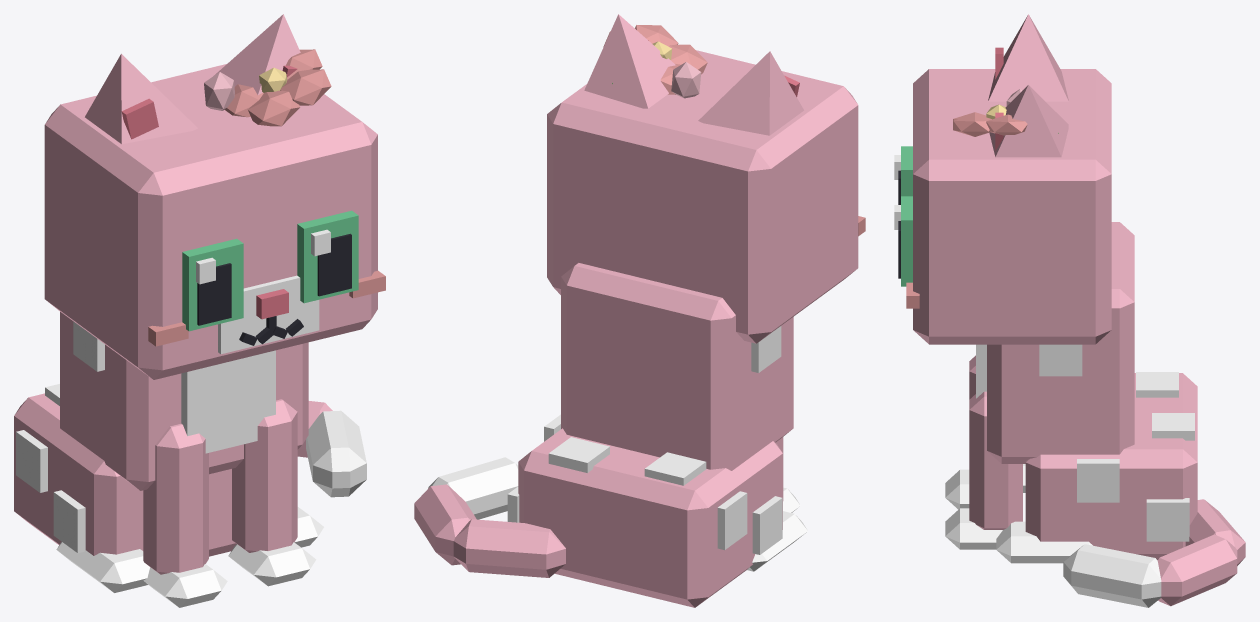
The model's file is CatCafe_Cat_Sakura_Sit.glb.
3 views of the same model, side by side, from view 1: azimuth 30°, elevation 25°; view 2: azimuth 150°, elevation 25°; view 3: azimuth 270°, elevation 25° (orthographic). The views are drawn at different scales.
Parts seen in each view (by area): view 1: CatCafe_Cat_Sakura_Sit_Head, CatCafe_Cat_Sakura_Sit_Body, CatCafe_Cat_Sakura_Sit_LegF2, CatCafe_Cat_Sakura_Sit_LegF1, CatCafe_Cat_Sakura_Sit_Prop, CatCafe_Cat_Sakura_Sit_EarR, CatCafe_Cat_Sakura_Sit_Eye2, CatCafe_Cat_Sakura_Sit_Eye1, CatCafe_Cat_Sakura_Sit_Tail, CatCafe_Cat_Sakura_Sit_EarL; view 2: CatCafe_Cat_Sakura_Sit_Body, CatCafe_Cat_Sakura_Sit_Head, CatCafe_Cat_Sakura_Sit_Tail, CatCafe_Cat_Sakura_Sit_EarL, CatCafe_Cat_Sakura_Sit_EarR, CatCafe_Cat_Sakura_Sit_Prop; view 3: CatCafe_Cat_Sakura_Sit_Head, CatCafe_Cat_Sakura_Sit_Body, CatCafe_Cat_Sakura_Sit_Tail, CatCafe_Cat_Sakura_Sit_LegF1, CatCafe_Cat_Sakura_Sit_EarR, CatCafe_Cat_Sakura_Sit_EarL, CatCafe_Cat_Sakura_Sit_Prop, CatCafe_Cat_Sakura_Sit_Eye1, CatCafe_Cat_Sakura_Sit_LegF2, CatCafe_Cat_Sakura_Sit_Eye2.
Part boxes in pixels (<box>): CatCafe_Cat_Sakura_Sit_Head: <box>44,64,385,379</box>; CatCafe_Cat_Sakura_Sit_Body: <box>14,312,323,592</box>; CatCafe_Cat_Sakura_Sit_LegF2: <box>143,423,227,607</box>; CatCafe_Cat_Sakura_Sit_LegF1: <box>228,399,316,586</box>; CatCafe_Cat_Sakura_Sit_Prop: <box>204,49,331,126</box>; CatCafe_Cat_Sakura_Sit_EarR: <box>85,54,197,144</box>; CatCafe_Cat_Sakura_Sit_Eye2: <box>182,238,243,331</box>; CatCafe_Cat_Sakura_Sit_Eye1: <box>297,210,358,303</box>; CatCafe_Cat_Sakura_Sit_Tail: <box>297,401,366,497</box>; CatCafe_Cat_Sakura_Sit_EarL: <box>214,14,300,94</box>; CatCafe_Cat_Sakura_Sit_Body: <box>507,263,807,607</box>; CatCafe_Cat_Sakura_Sit_Head: <box>547,50,865,343</box>; CatCafe_Cat_Sakura_Sit_Tail: <box>414,457,565,577</box>; CatCafe_Cat_Sakura_Sit_EarL: <box>584,14,675,108</box>; CatCafe_Cat_Sakura_Sit_EarR: <box>698,51,803,135</box>; CatCafe_Cat_Sakura_Sit_Prop: <box>603,25,707,98</box>; CatCafe_Cat_Sakura_Sit_Head: <box>906,69,1111,344</box>; CatCafe_Cat_Sakura_Sit_Body: <box>976,222,1197,563</box>; CatCafe_Cat_Sakura_Sit_Tail: <box>1063,499,1245,607</box>; CatCafe_Cat_Sakura_Sit_LegF1: <box>945,391,1022,549</box>; CatCafe_Cat_Sakura_Sit_EarR: <box>988,14,1068,101</box>; CatCafe_Cat_Sakura_Sit_EarL: <box>989,85,1068,157</box>; CatCafe_Cat_Sakura_Sit_Prop: <box>953,89,1058,136</box>; CatCafe_Cat_Sakura_Sit_Eye1: <box>894,196,912,286</box>; CatCafe_Cat_Sakura_Sit_LegF2: <box>945,355,975,509</box>; CatCafe_Cat_Sakura_Sit_Eye2: <box>894,146,912,204</box>.
Size of the model in its own units: 1.24 by 1.85 by 1.24.
1 material, 1 textured.
